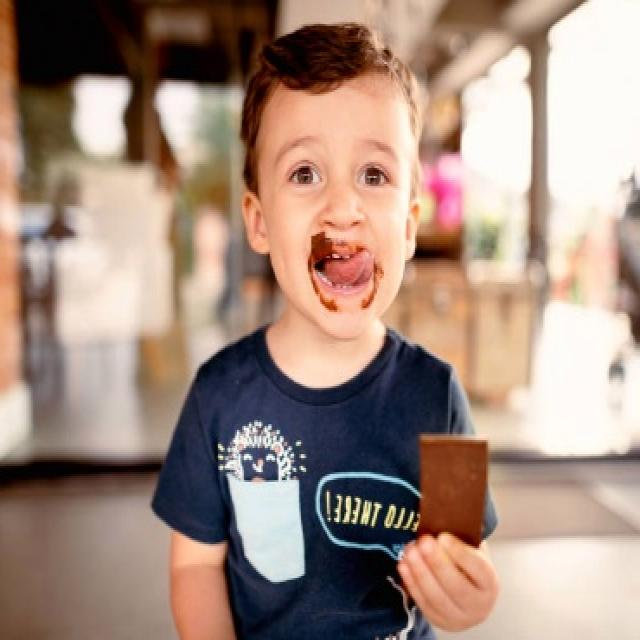child: (152, 20, 500, 640)
